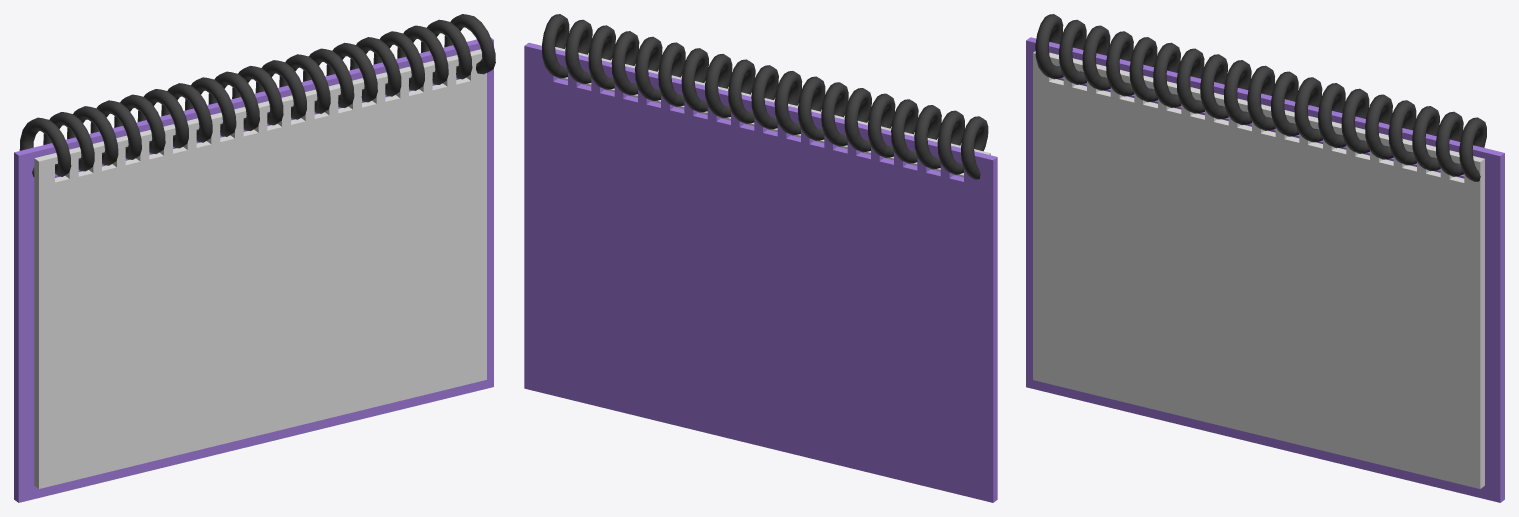
Rendered from sketchBook.fbx.
3 views of the same model, side by side, from view 1: azimuth 30°, elevation 25°; view 2: azimuth 150°, elevation 25°; view 3: azimuth 330°, elevation 25° (orthographic).
Visible parts, largest first — view 1: Plane; view 2: Plane; view 3: Plane.
Boxes of the visible parts, x1,y1,x2,y2 form: Plane: (14, 14, 495, 502); Plane: (524, 14, 997, 502); Plane: (1026, 14, 1504, 502).
Bounding box in the file's own units: 443 × 337 × 51.68.
